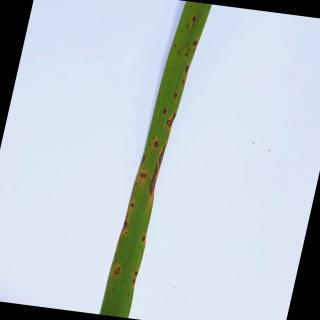Blast: (148, 164, 158, 198), (158, 142, 167, 166), (121, 218, 129, 230), (152, 139, 160, 150), (165, 119, 173, 128), (140, 234, 146, 245), (140, 155, 146, 164), (140, 172, 147, 179), (171, 113, 177, 121), (114, 267, 120, 275), (162, 108, 168, 115), (185, 22, 190, 30), (192, 40, 198, 46), (185, 65, 189, 74), (181, 77, 185, 86), (173, 92, 178, 98), (184, 52, 189, 58), (130, 202, 135, 208), (132, 279, 136, 285), (192, 16, 196, 22), (135, 270, 138, 276), (180, 28, 183, 34), (174, 44, 177, 48)
